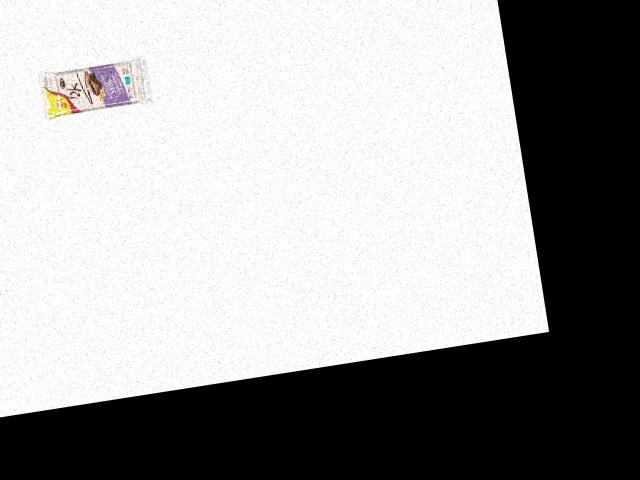chocolate: (34, 51, 155, 123)
